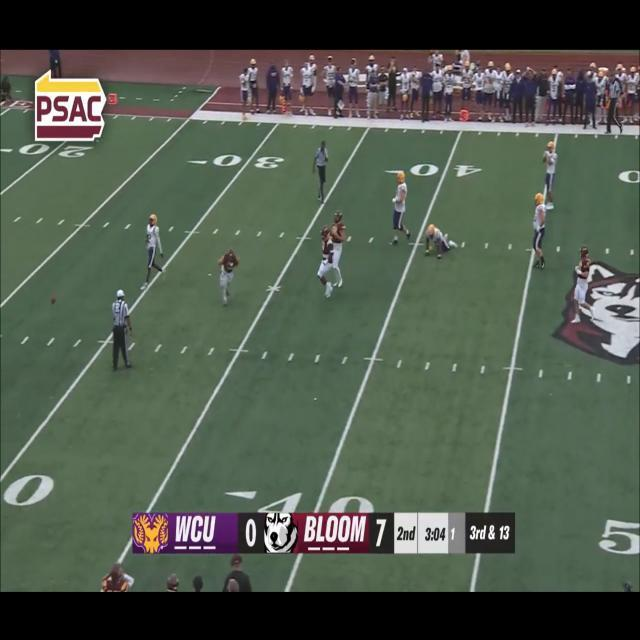football: (50, 294, 59, 306)
